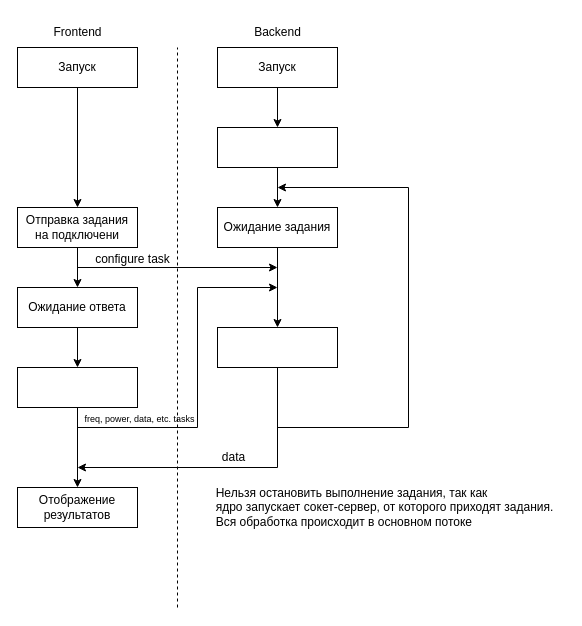
The diagram is 582 pixels wide and 626 high, and some of its shapes have lost their labels. The shapes that lost their labels are listed below. From the top down, each one's centre as x and y in pixels, then its label:
At [277,147]: "Инициализация сокет-сервера".
At [277,347]: "Обработка задания".
At [77,387]: "Запуск измерения".
